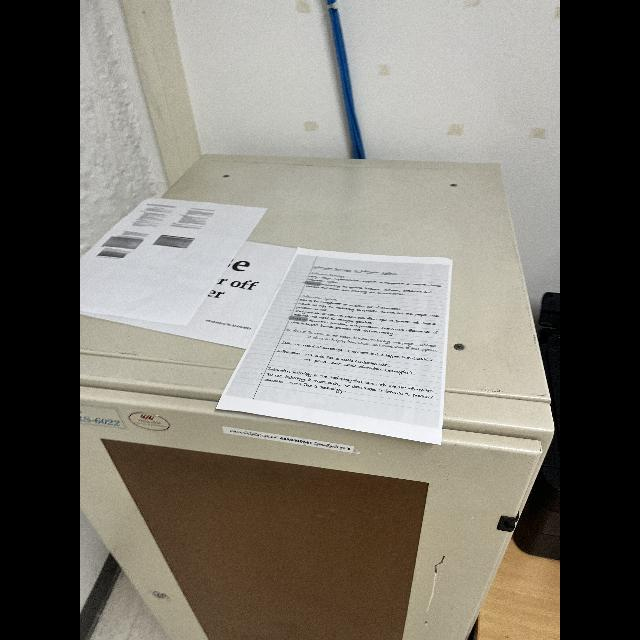reuseable_paper: (212, 250, 460, 446), (80, 196, 296, 354)
